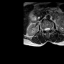CCS_normal: (46, 26, 47, 33)
LFS_normal: (49, 25, 51, 31)
LLS_normal: (47, 26, 49, 32)
RFS_normal: (42, 26, 44, 32)
RLS_normal: (44, 26, 46, 32)
